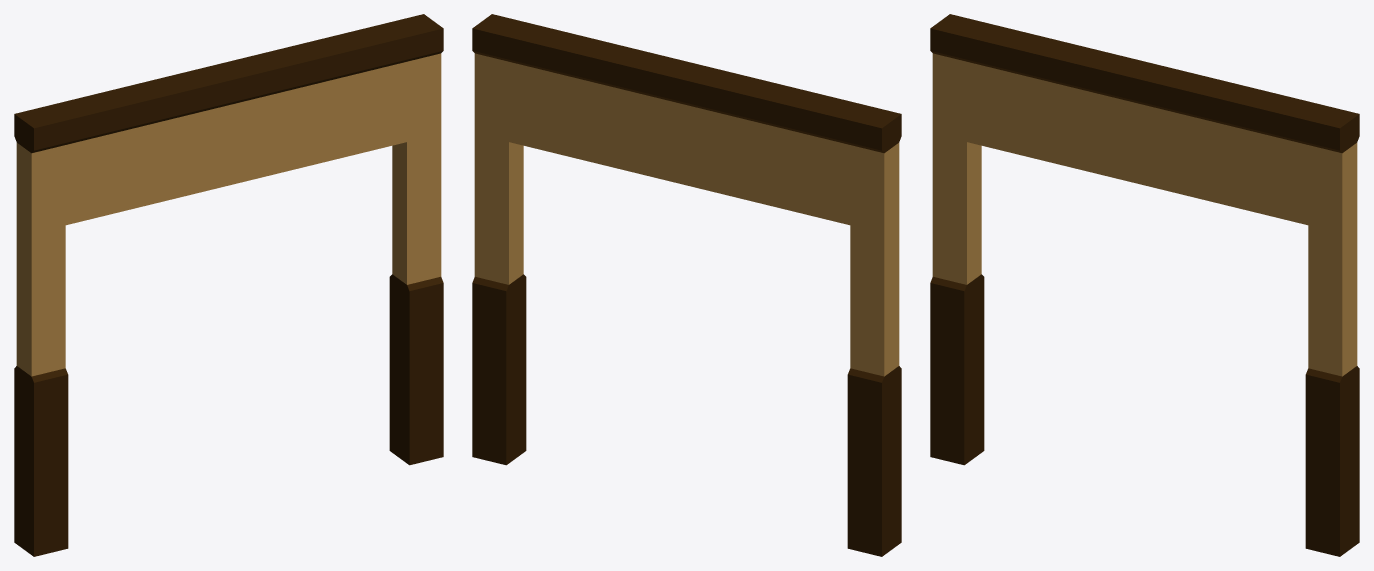
Rendered from Classic_WallDoubleDoorFrame_01_snaps001.fbx.
The picture shows the model from 3 angles, left to right: view 1: azimuth 30°, elevation 25°; view 2: azimuth 150°, elevation 25°; view 3: azimuth 330°, elevation 25°; orthographic projection.
Parts seen in each view (by area): view 1: Classic_WallDoubleDoorFrame_01_snaps001; view 2: Classic_WallDoubleDoorFrame_01_snaps001; view 3: Classic_WallDoubleDoorFrame_01_snaps001.
Boxes of the visible parts, x1,y1,x2,y2 form: Classic_WallDoubleDoorFrame_01_snaps001: (14, 14, 443, 556); Classic_WallDoubleDoorFrame_01_snaps001: (472, 14, 901, 556); Classic_WallDoubleDoorFrame_01_snaps001: (930, 14, 1359, 556).
Bounding box in the file's own units: 300 × 300 × 25.
